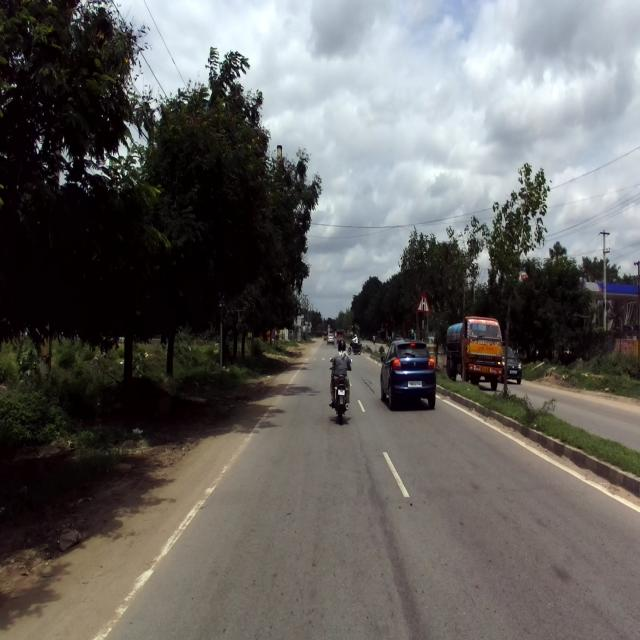Car_Maruti-Suzuki: (379, 338, 437, 410)
truck: (445, 313, 503, 388)
